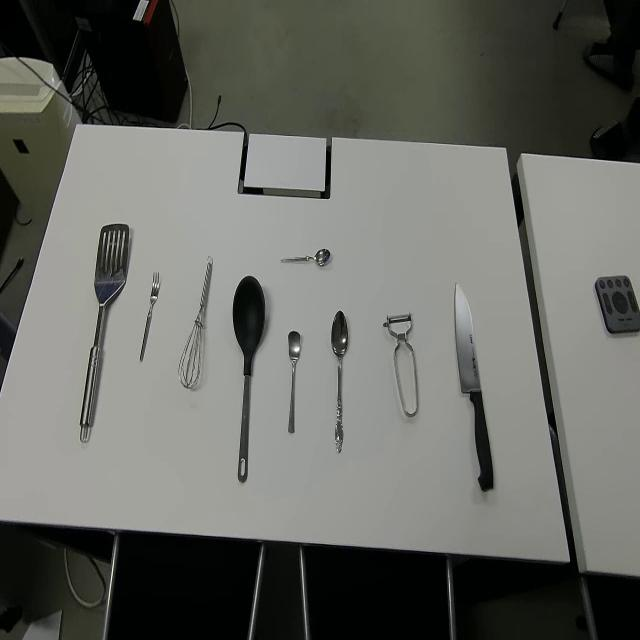Desert-Spoon: (329, 308, 348, 453)
Dinner-Fork: (138, 270, 160, 364)
Kitchen-Knife: (453, 278, 494, 491)
Peeler: (382, 309, 418, 418)
Serving-Spoon: (79, 222, 131, 442), (232, 274, 266, 485)
Tea-Spoon: (286, 328, 302, 434), (280, 248, 330, 267)
Whisk: (178, 255, 215, 390)
